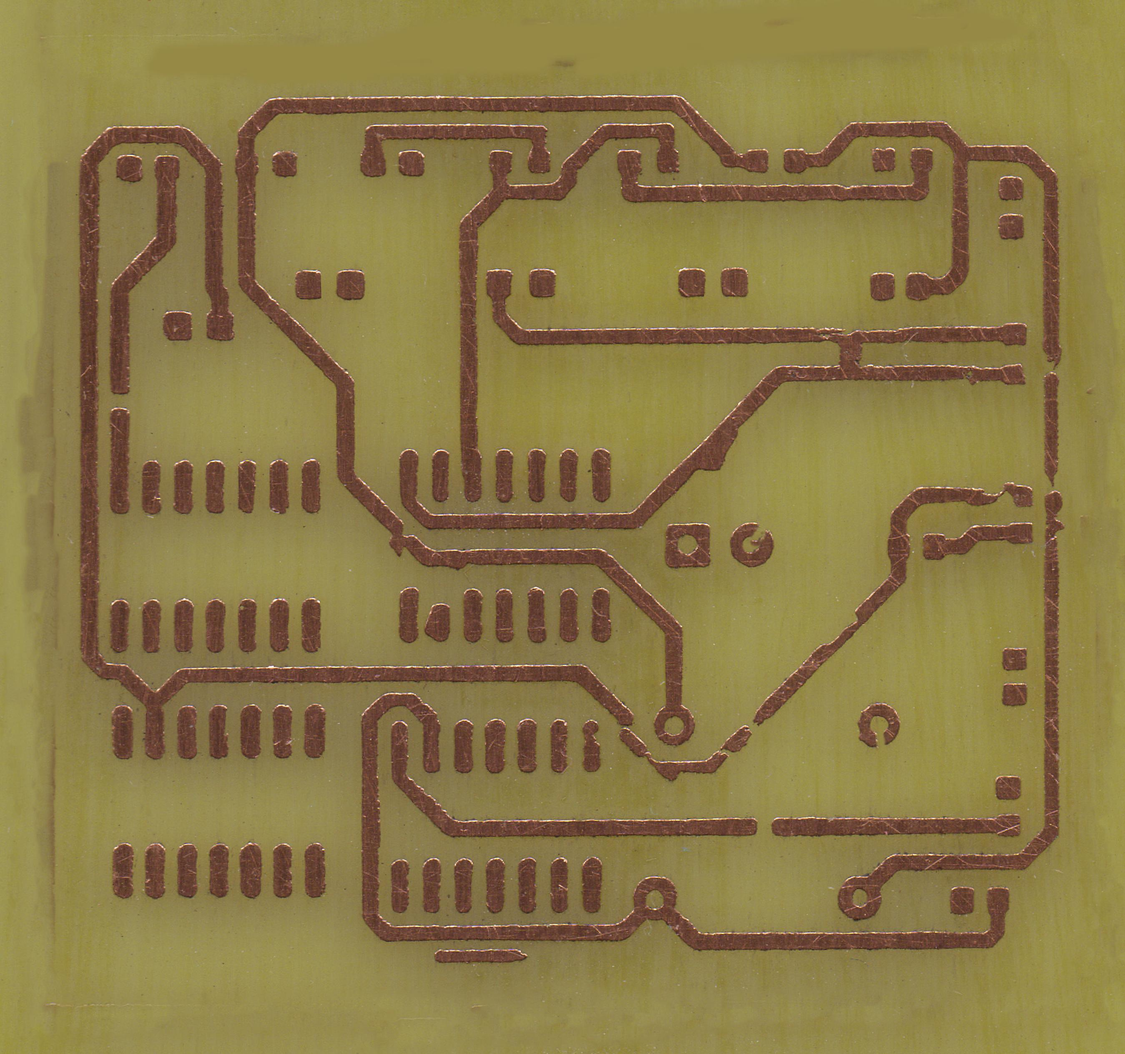missing_hole: (852, 703, 901, 751), (728, 521, 773, 569)
mouse_bite: (815, 607, 862, 650), (988, 490, 1018, 508), (1045, 505, 1065, 527), (977, 482, 1006, 497), (397, 520, 413, 541), (645, 743, 658, 766)
open_circuit: (108, 377, 133, 429), (740, 710, 770, 744), (750, 812, 783, 839), (1045, 464, 1062, 500), (1045, 349, 1060, 382), (716, 745, 733, 767)
short: (833, 324, 868, 385)
spur: (691, 419, 740, 478)
spurious_copper: (428, 948, 531, 966)
